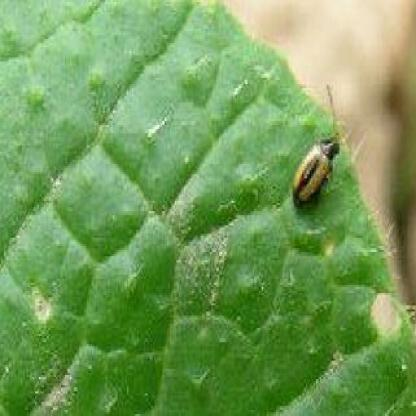beetle: (291, 86, 347, 208)
